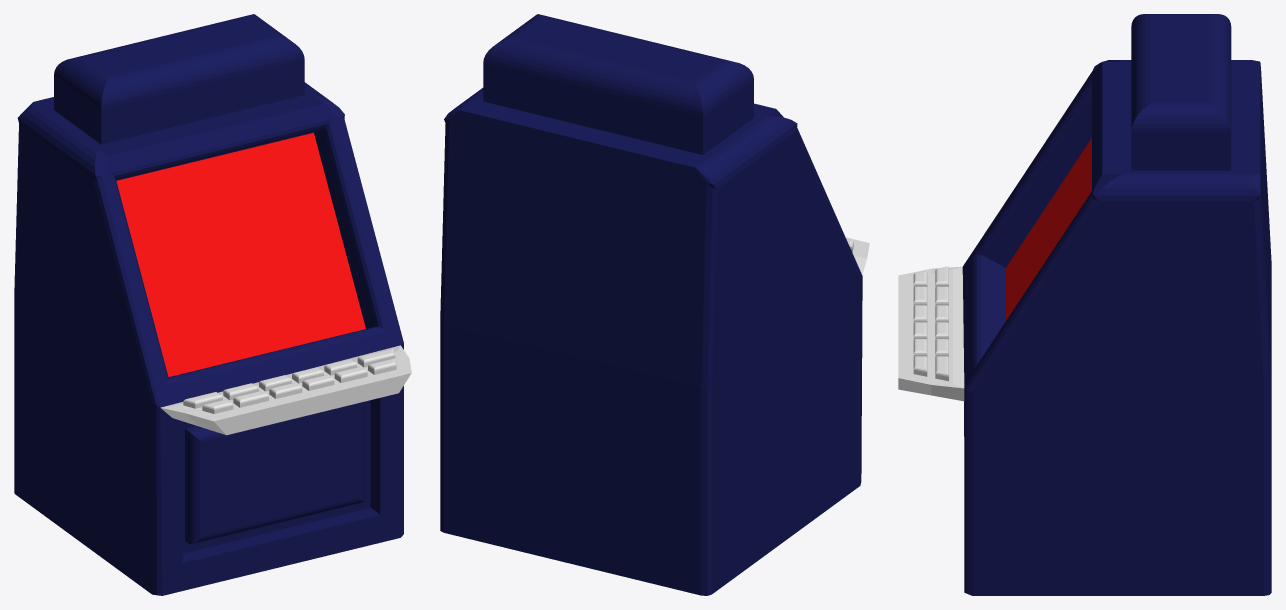
Rendered from Decode-Machine.fbx.
3 renders of one model, left to right at view 1: azimuth 30°, elevation 25°; view 2: azimuth 150°, elevation 25°; view 3: azimuth 270°, elevation 25°, orthographic. The views are drawn at different scales.
Parts seen in each view (by area): view 1: body, Screen, keyboard; view 2: body; view 3: body, keyboard, Screen.
Boxes of the visible parts, x1=… form: body: x1=14, y1=14, x2=403, y2=595; Screen: x1=116, y1=132, x2=365, y2=376; keyboard: x1=160, y1=345, x2=411, y2=435; body: x1=440, y1=14, x2=862, y2=595; body: x1=962, y1=14, x2=1271, y2=595; keyboard: x1=898, y1=266, x2=964, y2=401; Screen: x1=1006, y1=138, x2=1091, y2=320.
Bounding box in the file's own units: 200 × 339 × 243.
